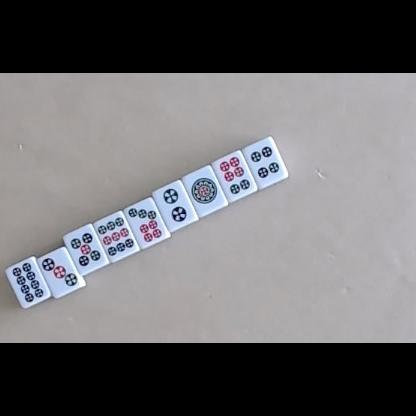1p: (190, 177, 218, 205)
2p: (162, 188, 189, 224)
3p: (42, 257, 78, 288)
4p: (250, 146, 280, 179)
5p: (70, 232, 101, 267)
6p: (219, 156, 251, 195)
7p: (127, 207, 163, 243)
8p: (12, 262, 44, 302)
9p: (98, 216, 135, 256)
